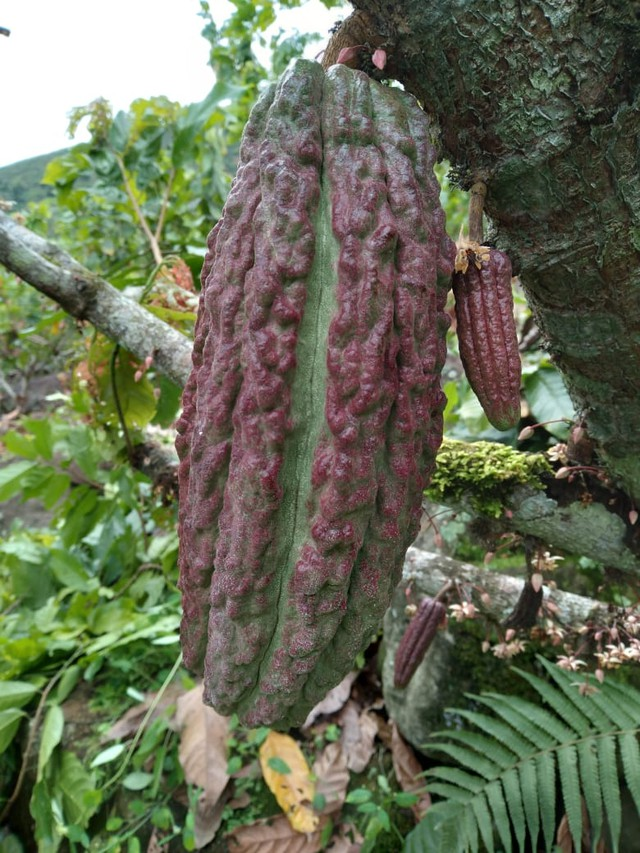Health: (162, 57, 462, 746), (445, 244, 532, 434)
